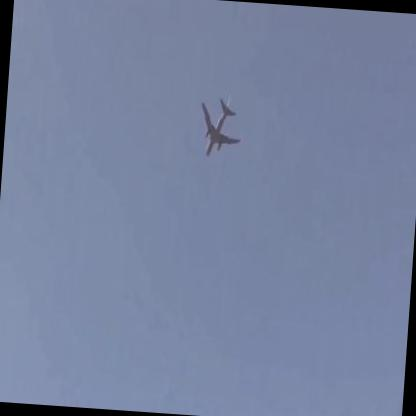plane: (194, 97, 243, 159)
